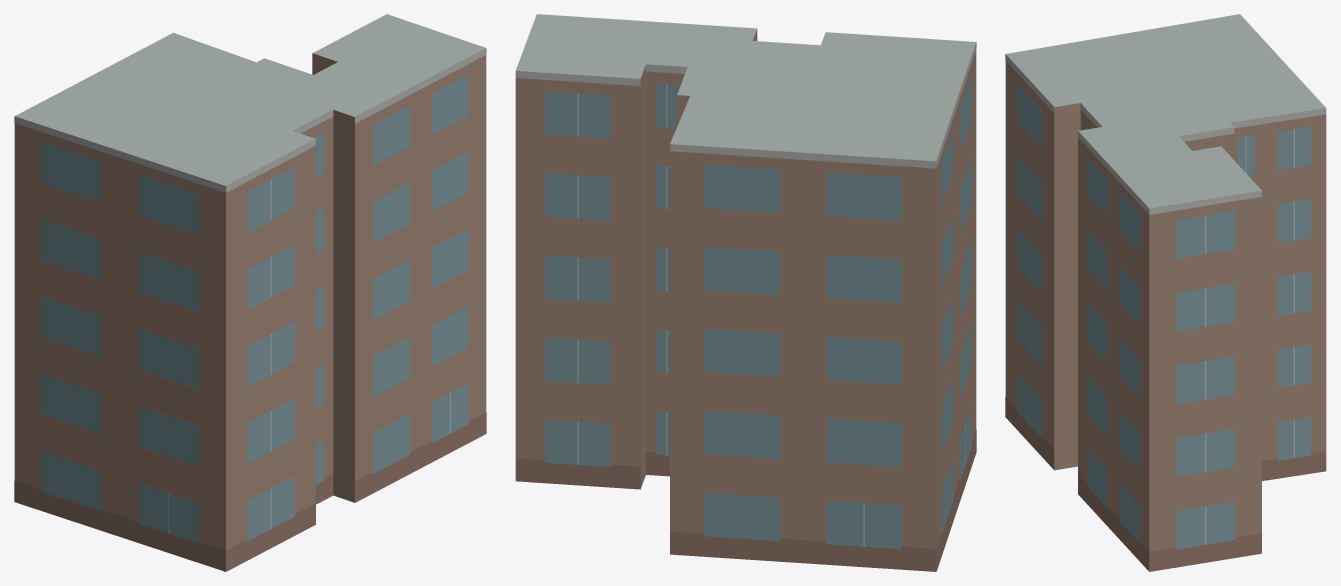
The model's file is survey-upis-32952502.glb.
The picture shows the model from 3 angles, left to right: view 1: azimuth 30°, elevation 25°; view 2: azimuth 150°, elevation 25°; view 3: azimuth 270°, elevation 25°; orthographic projection. The views are drawn at different scales.
Parts seen in each view (by area): view 1: survey-upis-32952502.tmp; view 2: survey-upis-32952502.tmp; view 3: survey-upis-32952502.tmp.
Part boxes in pixels (bbox=[...]): survey-upis-32952502.tmp: bbox=[14, 14, 486, 571]; survey-upis-32952502.tmp: bbox=[515, 14, 976, 571]; survey-upis-32952502.tmp: bbox=[1005, 14, 1326, 571].
Bounding box in the file's own units: 16.1 × 14 × 11.21.
